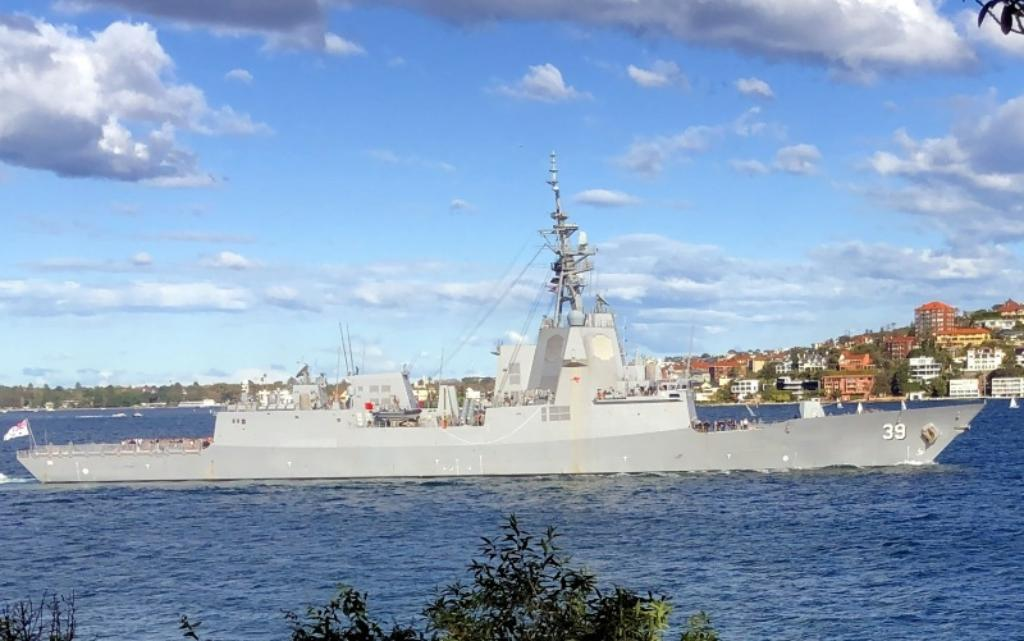Warship: (12, 144, 990, 486)
